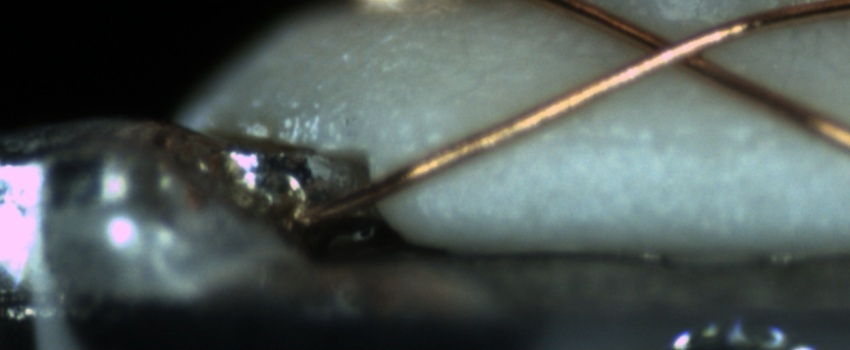CL: (619, 18, 728, 80)
DL: (526, 111, 806, 175)
